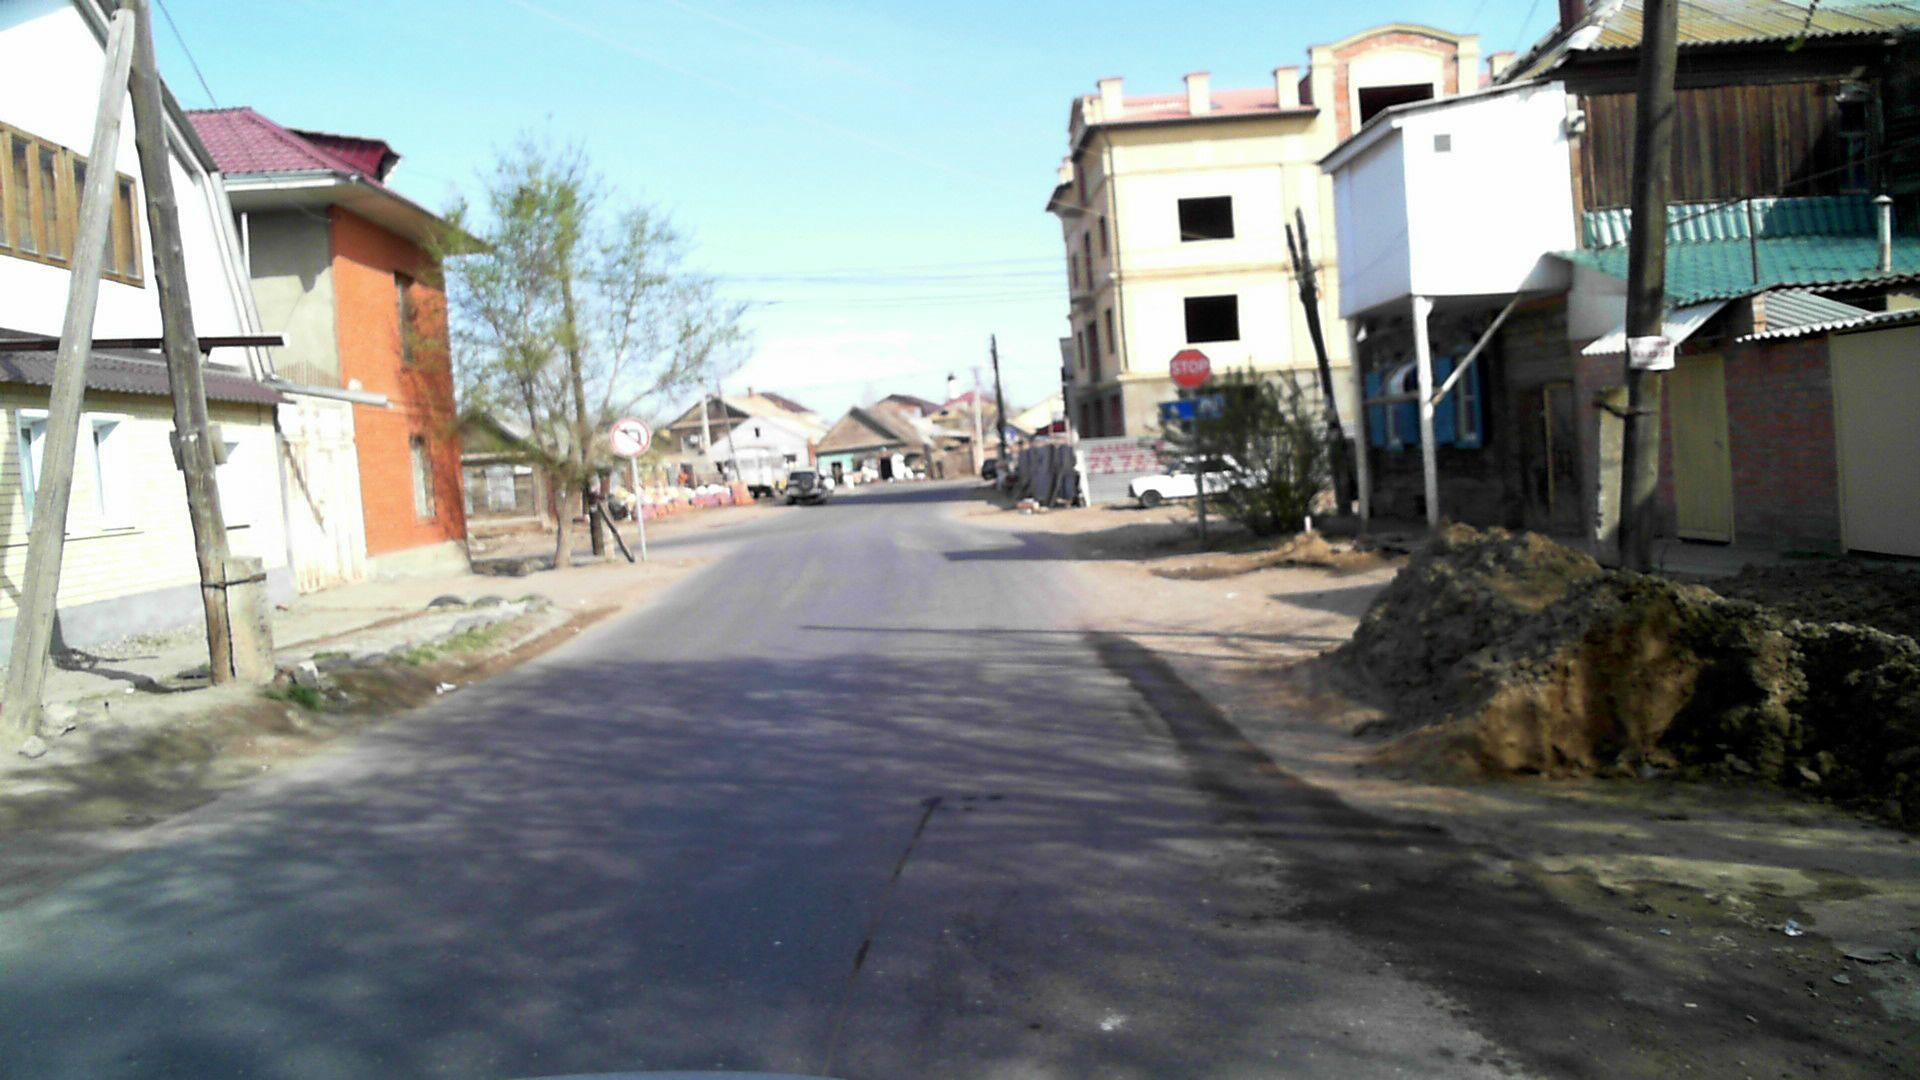2_5: (1168, 347, 1211, 392)
3_18_2: (607, 415, 655, 456)
6_15_1: (1156, 398, 1226, 421)
